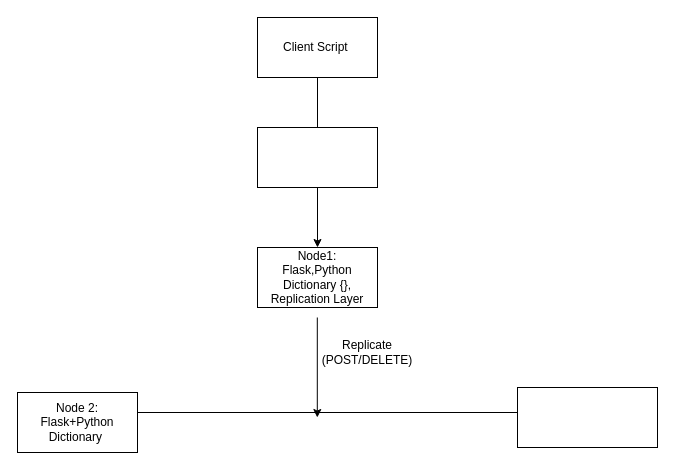
This 675x470 diagram has some shape labels left out. Each missing label, with the box of its shape:
Node3: PythonDictionary{}+Flask: (516, 386, 658, 448)
POST/keys/DST: (256, 126, 378, 188)
